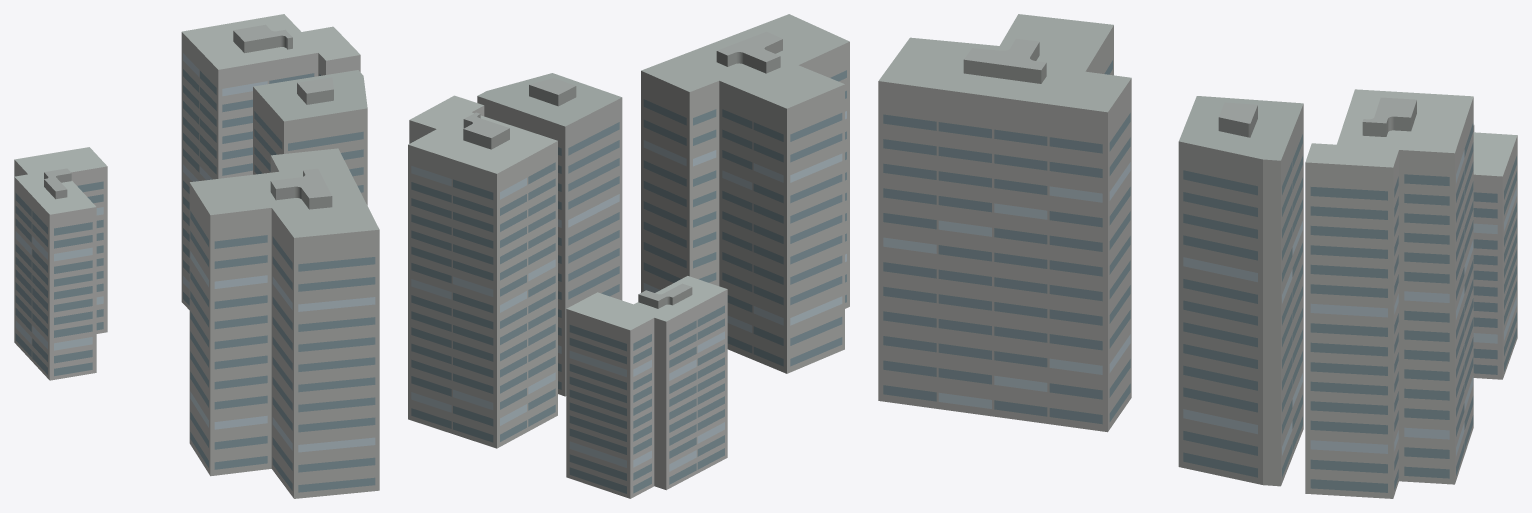
File: apt-a10023979.glb
3 views of the same model, side by side, from view 1: azimuth 30°, elevation 25°; view 2: azimuth 150°, elevation 25°; view 3: azimuth 270°, elevation 25° (orthographic). The views are drawn at different scales.
Parts seen in each view (by area): view 1: apt-a10023979; view 2: apt-a10023979; view 3: apt-a10023979.
Boxes of the visible parts, x1,y1,x2,y2 form: apt-a10023979: (14, 14, 379, 498); apt-a10023979: (408, 14, 849, 498); apt-a10023979: (878, 14, 1517, 498).
Size of the model in its own units: 66.56 by 60 by 101.
